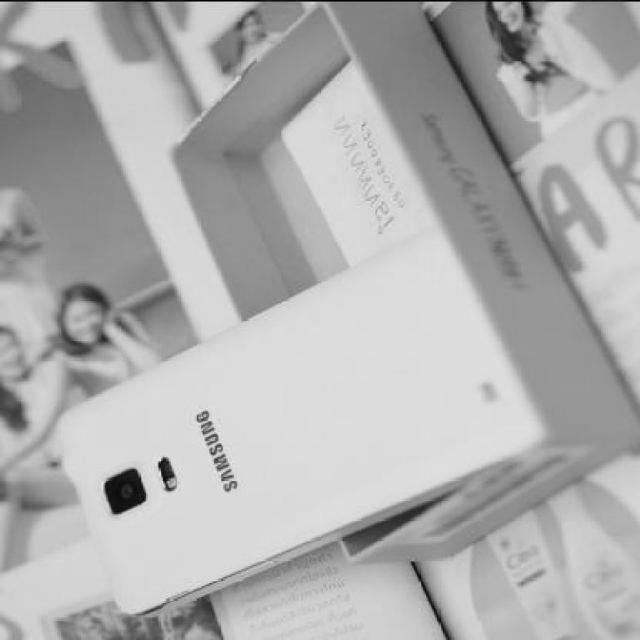fake: (49, 224, 548, 618)
